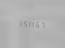five: (22, 19, 26, 27)
one: (17, 18, 21, 27), (28, 19, 32, 27), (33, 20, 37, 28)
seven: (43, 20, 47, 29)
six: (38, 20, 42, 28)
